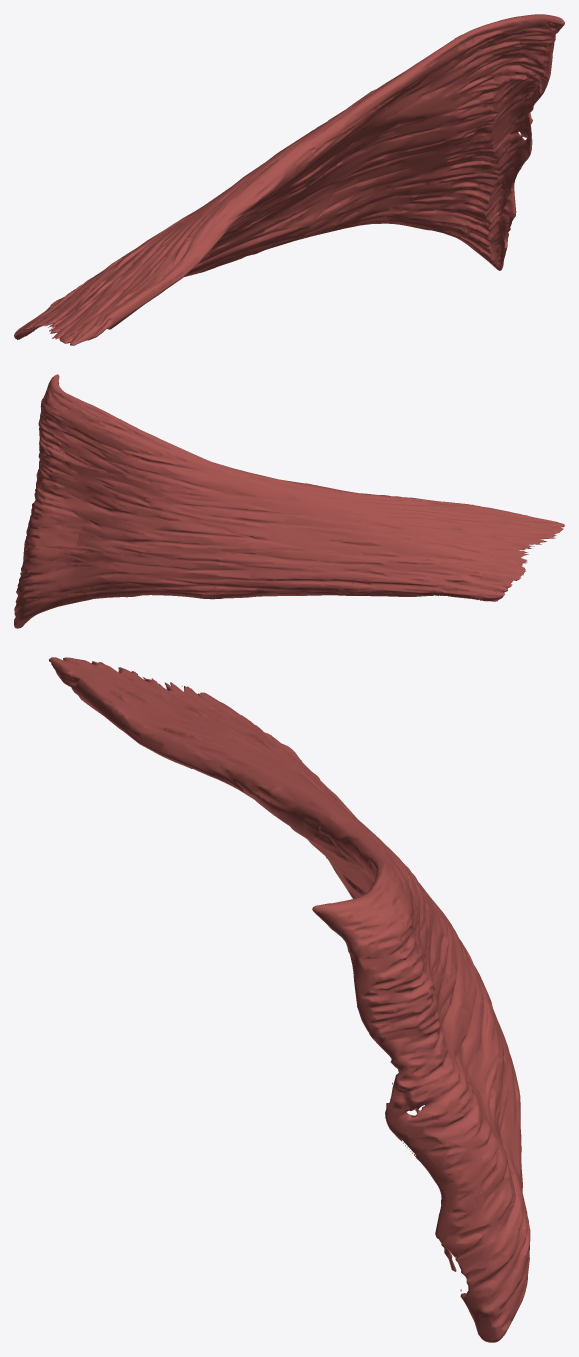
Rendered from FMA33584.glb.
3 views of the same model, one above another, from view 1: azimuth 30°, elevation 25°; view 2: azimuth 150°, elevation 25°; view 3: azimuth 270°, elevation 25° (orthographic). The views are drawn at different scales.
Parts seen in each view (by area): view 1: FMA33584; view 2: FMA33584; view 3: FMA33584.
Part boxes in pixels (x1=…): FMA33584: x1=14, y1=14, x2=564, y2=345; FMA33584: x1=14, y1=374, x2=564, y2=628; FMA33584: x1=49, y1=657, x2=530, y2=1342.
Size of the model in its own units: 0.1672 by 0.0786 by 0.0776.
